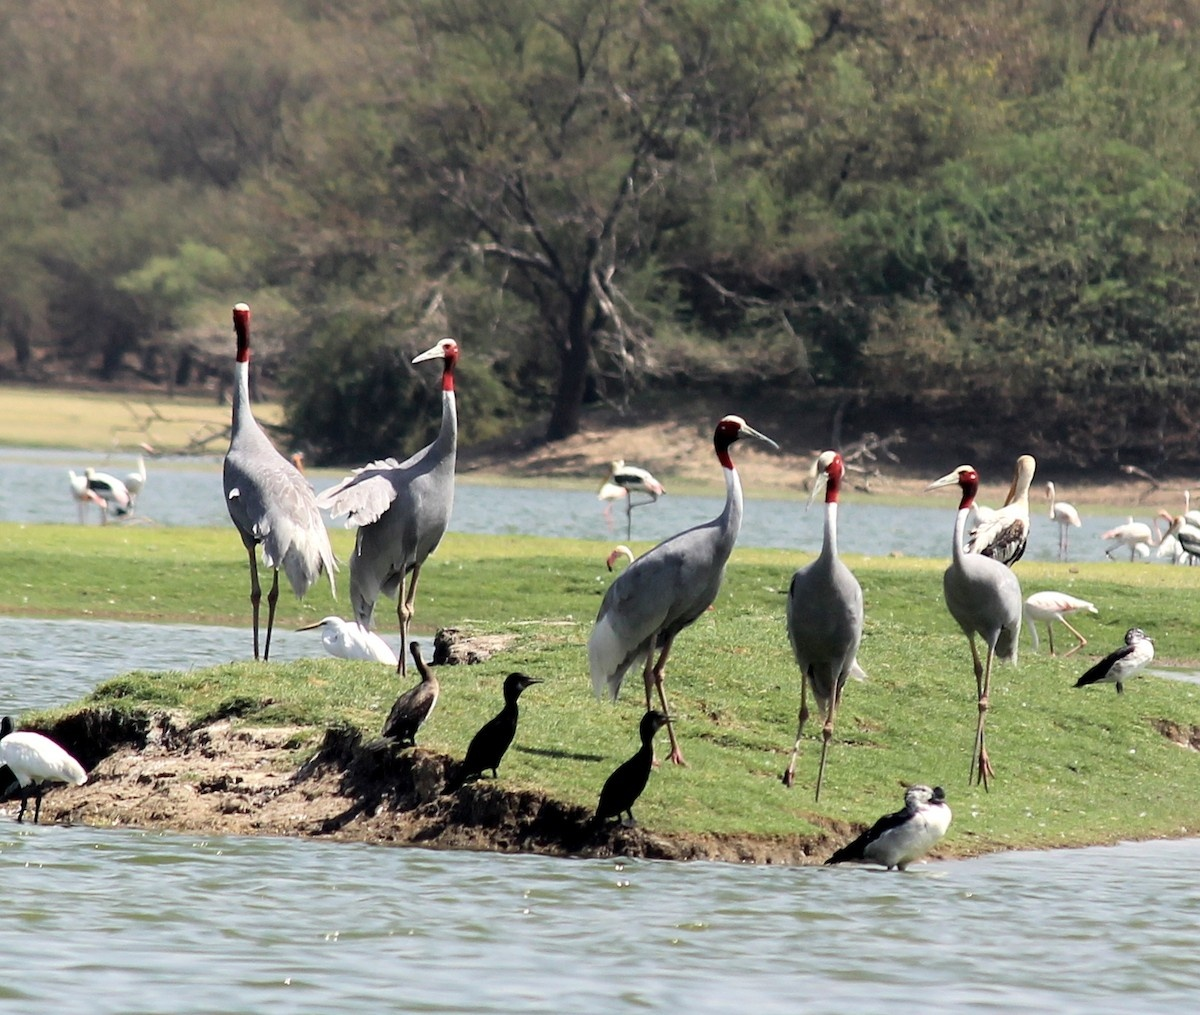crane: (604, 407, 798, 757), (328, 326, 490, 696), (203, 294, 347, 668), (920, 457, 1031, 790), (794, 450, 867, 800), (460, 674, 560, 784), (587, 708, 684, 820), (379, 638, 449, 759)
